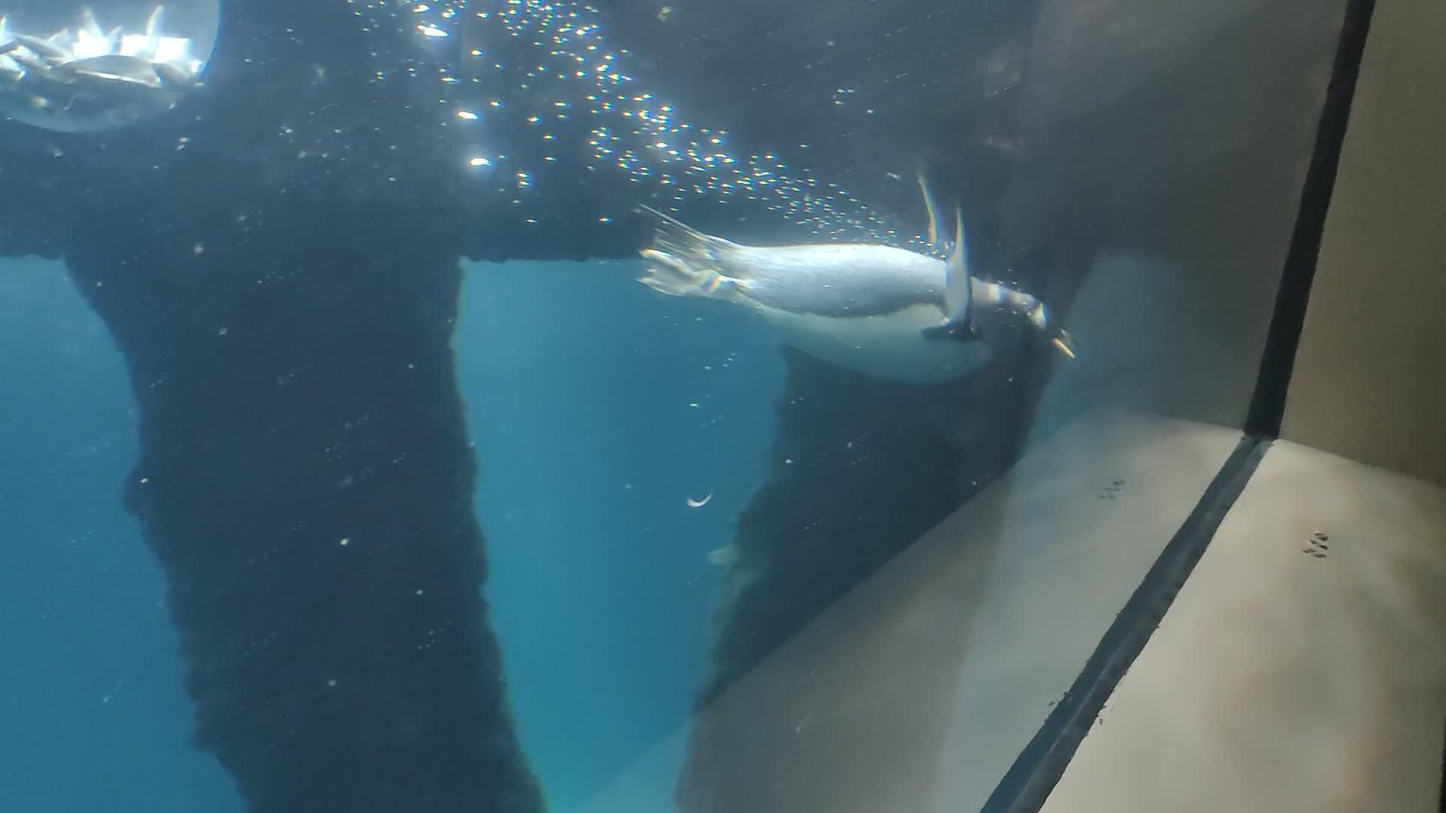apple: (631, 174, 1077, 386)
